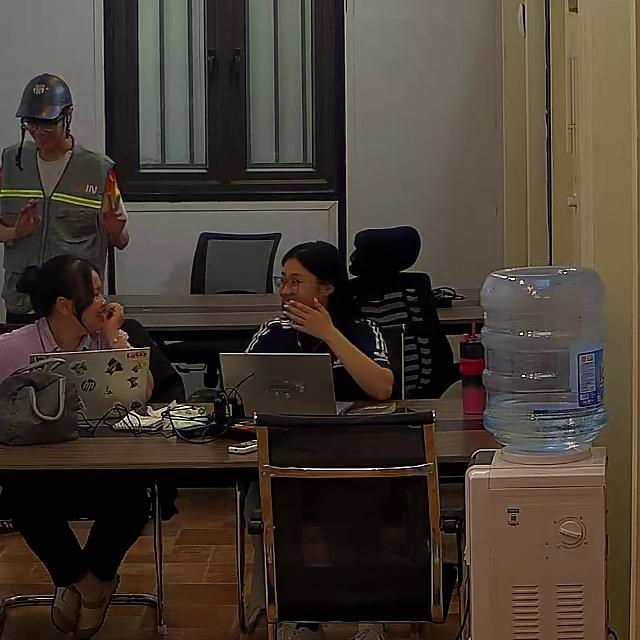helmet: (16, 72, 76, 121)
no_helmet: (280, 240, 354, 335), (20, 255, 99, 319)
none: (243, 313, 389, 404), (0, 318, 122, 405)
vest: (2, 139, 114, 302)
